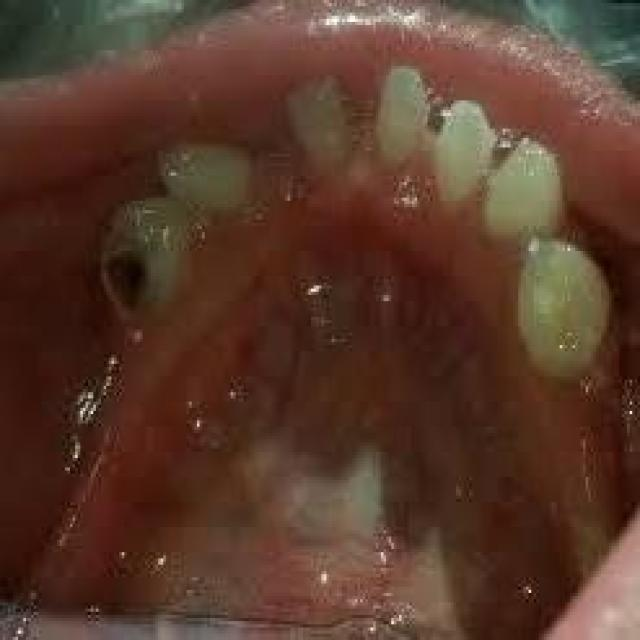caries: (88, 234, 162, 324)
